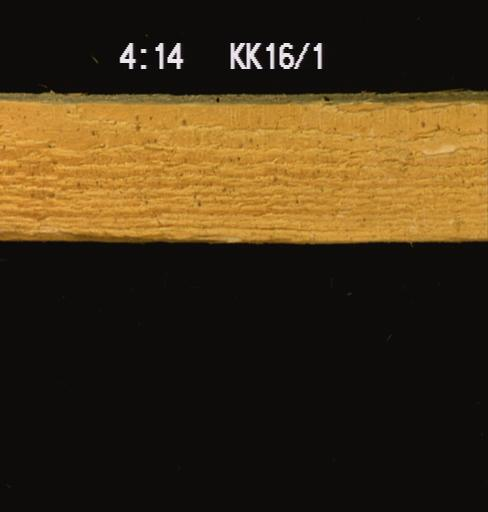wave: (0, 228, 172, 242)
